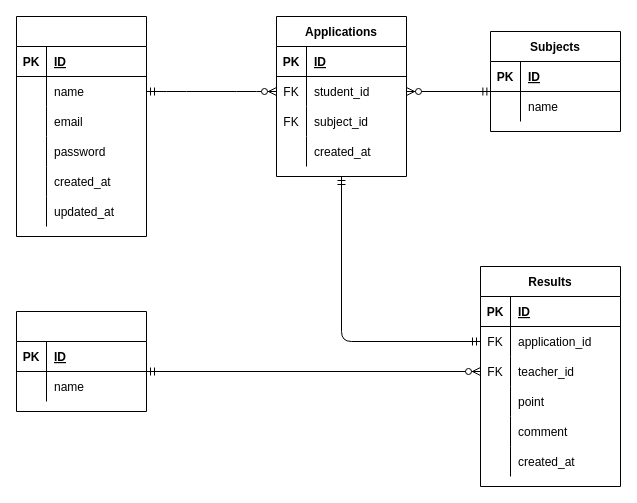
The diagram is 637 pixels wide and 503 high, and some of its shapes have lost their labels. The box of each missing label's shape, as (x1, y1, x2, y2) in pixels:
Students: (16, 16, 146, 236)
Teachers: (16, 310, 146, 412)
